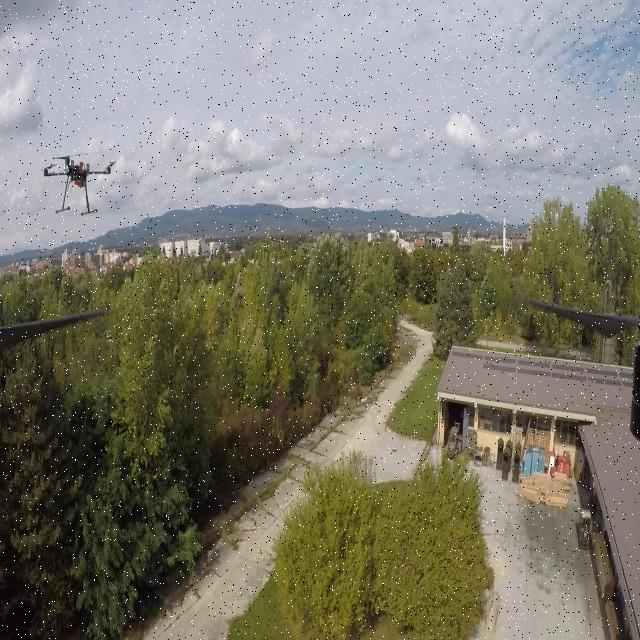UAV: (34, 143, 122, 219)
